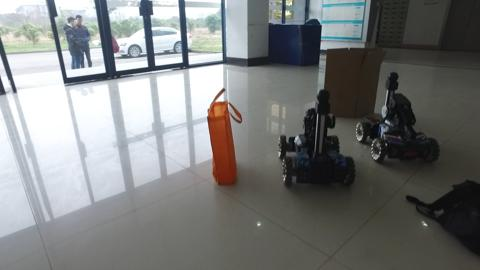bag: (206, 90, 241, 183)
chariot: (274, 93, 358, 189), (356, 71, 440, 162)
